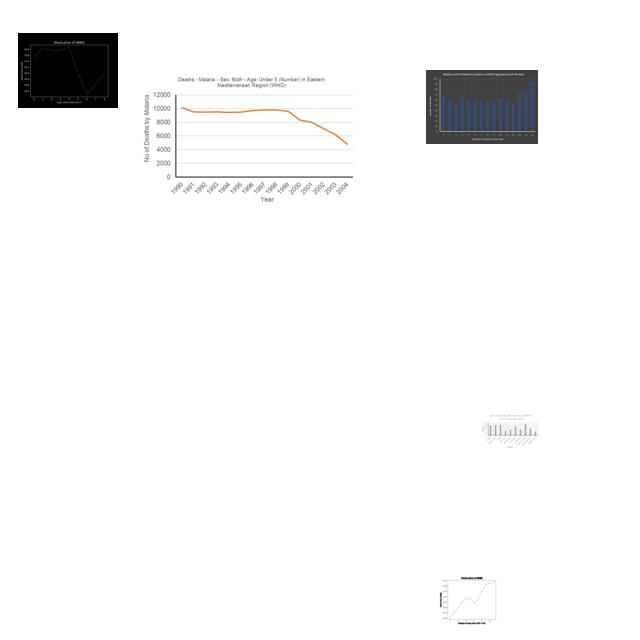Graph: (140, 74, 358, 206), (426, 70, 538, 144), (18, 33, 118, 108), (437, 574, 505, 625), (481, 413, 539, 448)
